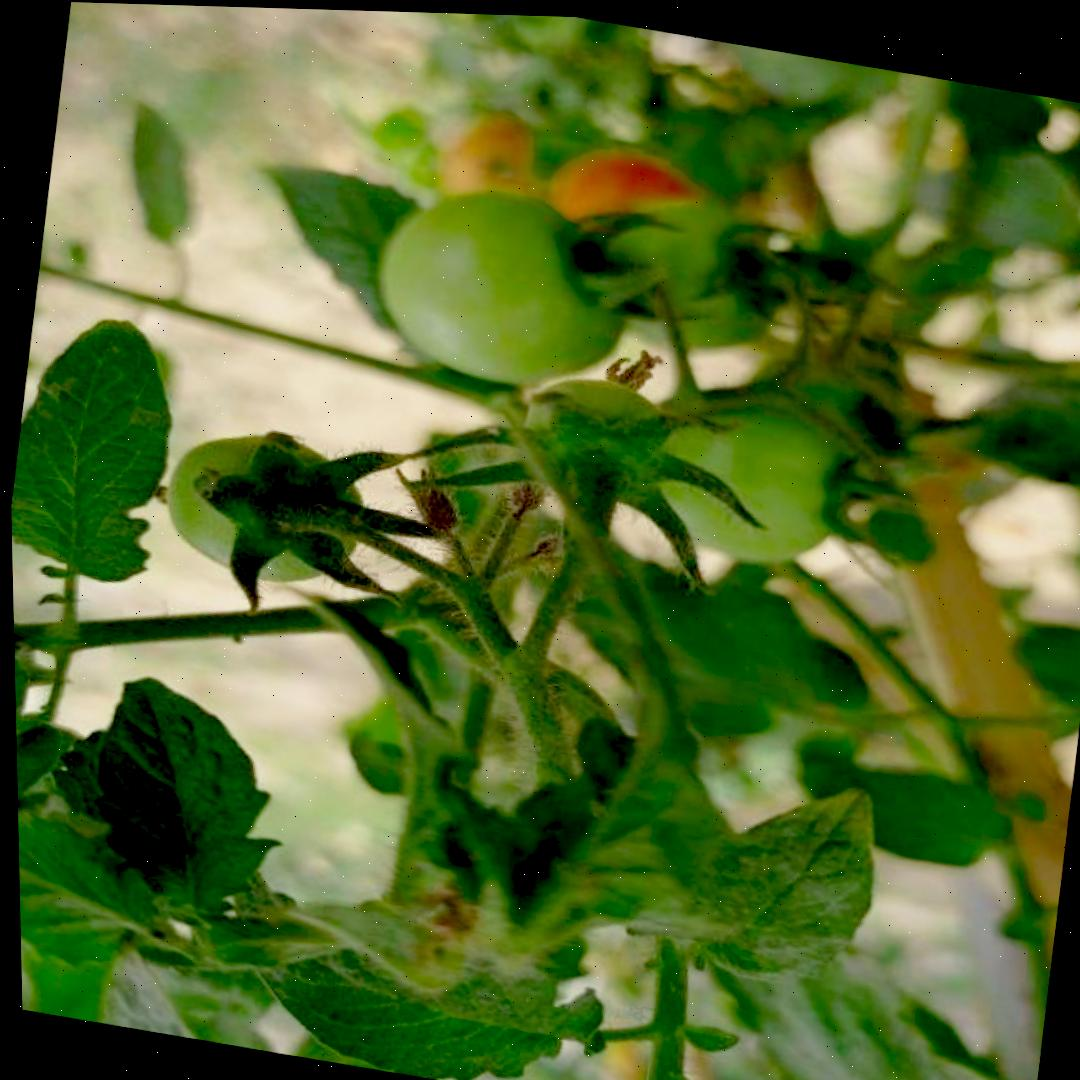mentah: (360, 166, 645, 407), (614, 379, 858, 579), (151, 414, 376, 598), (510, 370, 675, 493)
